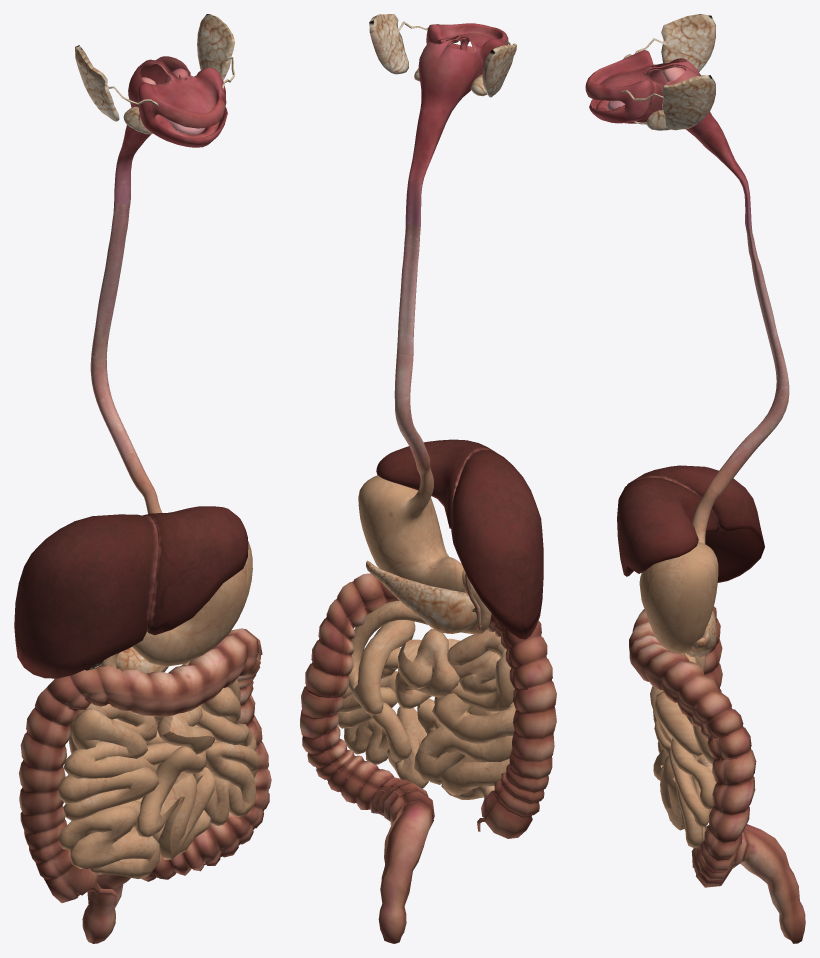
Rendered from A Female_Digestive_System.fbx.
3 renders of one model, left to right at view 1: azimuth 30°, elevation 25°; view 2: azimuth 150°, elevation 25°; view 3: azimuth 270°, elevation 25°, orthographic. The views are drawn at different scales.
Parts seen in each view (by area): view 1: Right_Lobe, Jejunum, Ileum, Left_Lobe, Ascending_Colon, Transverse_Colon, Mouse, Descending_Colon, Body, Lower_Thoracic_Esophagus, Left_Parotid_Gland, Rectum (+12 smaller); view 2: Jejunum, Right_Lobe, Ileum, Descending_Colon, Ascending_Colon, Rectum, Body, Pharynx, Left_Lobe, Head_Pancreas, Sigmoid_Colon, Duodenum (+15 smaller); view 3: Descending_Colon, Left_Lobe, Right_Lobe, Jejunum, Body, Mouse, Rectum, Transverse_Colon, Lower_Thoracic_Esophagus, Right_Parotid_Gland, Left_Parotid_Gland, Ileum (+8 smaller).
Part boxes in pixels (x1,y1,x2,y2): Right_Lobe: (14, 514, 152, 678); Jejunum: (58, 687, 260, 804); Ileum: (58, 761, 255, 878); Left_Lobe: (143, 506, 248, 635); Ascending_Colon: (19, 676, 90, 884); Transverse_Colon: (68, 628, 258, 716); Mouse: (138, 67, 227, 147); Descending_Colon: (209, 629, 271, 857); Body: (188, 541, 252, 644); Lower_Thoracic_Esophagus: (92, 379, 162, 513); Left_Parotid_Gland: (197, 14, 235, 89); Rectum: (82, 874, 130, 940); Jejunum: (337, 620, 516, 744); Right_Lobe: (451, 451, 543, 639); Ileum: (344, 698, 512, 799); Descending_Colon: (300, 581, 378, 803); Ascending_Colon: (492, 620, 556, 821); Rectum: (378, 801, 433, 937); Body: (358, 484, 443, 577); Pharynx: (418, 36, 484, 117); Left_Lobe: (376, 439, 493, 528); Head_Pancreas: (413, 582, 477, 633); Sigmoid_Colon: (355, 768, 434, 825); Duodenum: (348, 569, 491, 706); Descending_Colon: (675, 674, 756, 887); Left_Lobe: (617, 477, 719, 576); Right_Lobe: (639, 465, 764, 582); Jejunum: (650, 653, 716, 827); Body: (639, 553, 718, 653); Mouse: (585, 50, 686, 129); Rectum: (740, 824, 805, 940); Transverse_Colon: (629, 609, 704, 702); Lower_Thoracic_Esophagus: (692, 398, 787, 543); Right_Parotid_Gland: (623, 14, 715, 71); Left_Parotid_Gland: (621, 75, 715, 130); Ileum: (653, 741, 711, 848).
Bounding box in the file's own units: 21.61 × 74.96 × 16.65.
Materials: 1 (1 with a texture image).
